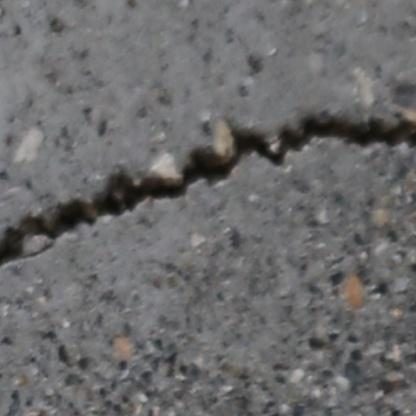Cracks: (0, 102, 416, 281)
